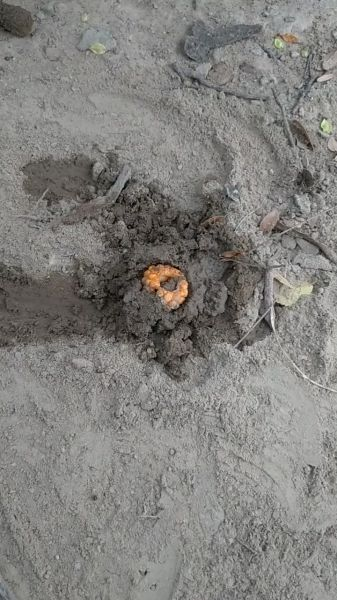eggs: (133, 256, 196, 316)
